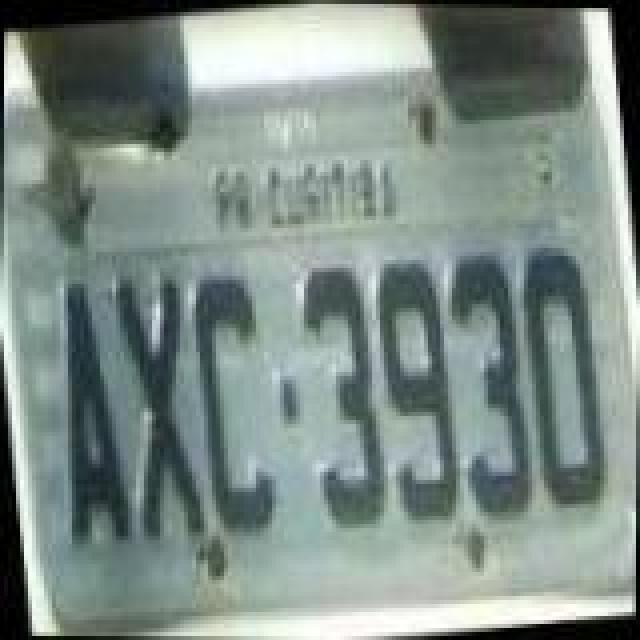3: (436, 238, 544, 522), (288, 254, 396, 534)
9: (362, 250, 466, 526)
A: (36, 272, 136, 552)
C: (178, 268, 282, 540)
O: (510, 240, 618, 512)
X: (104, 266, 212, 546)
